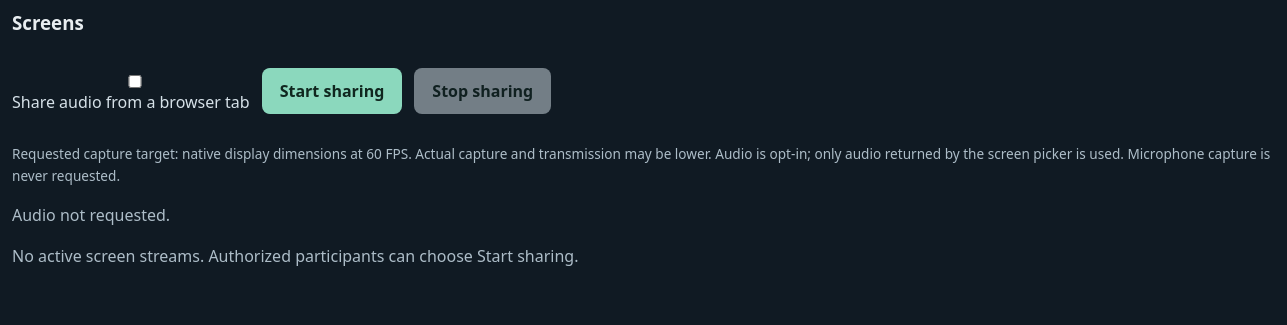
viewers cannot start capture and permission rejection is recoverable
Later steps or results of the test are not shown.
What coordinates should you click on to do the following:
click the button "Start sharing"
I would click on:
 (332, 91)
Its box is [262,68,402,114].
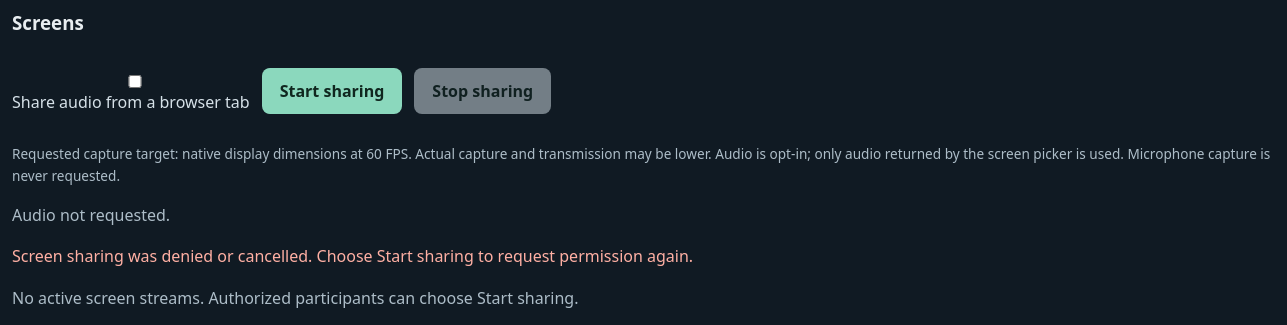
Result: the 2nd message shows "denied or cancelled" at [12,245,693,267]
